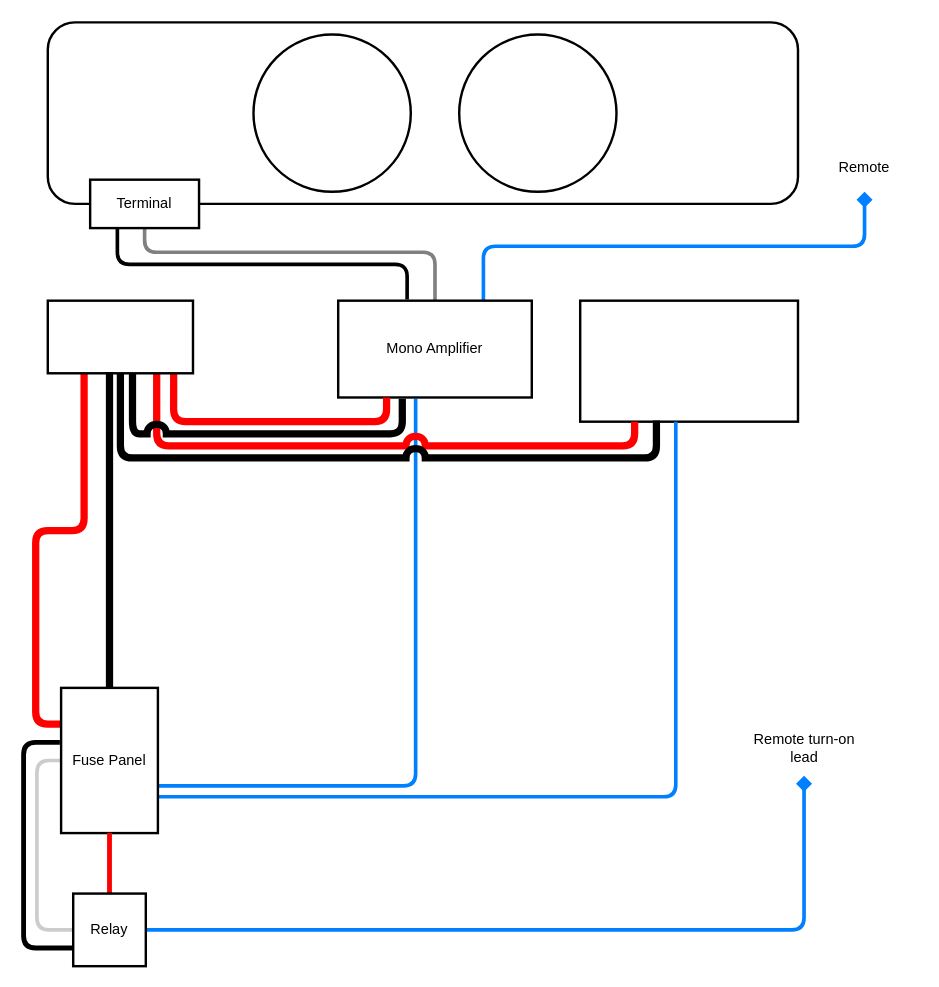
Image size: 939x987. Some labels were removed from this diagram. The centre of each missing label's shape, as x and y in pixels:
Dist. Block: pixel 120 336
Stereo Amplifier (future): pixel 688 360
